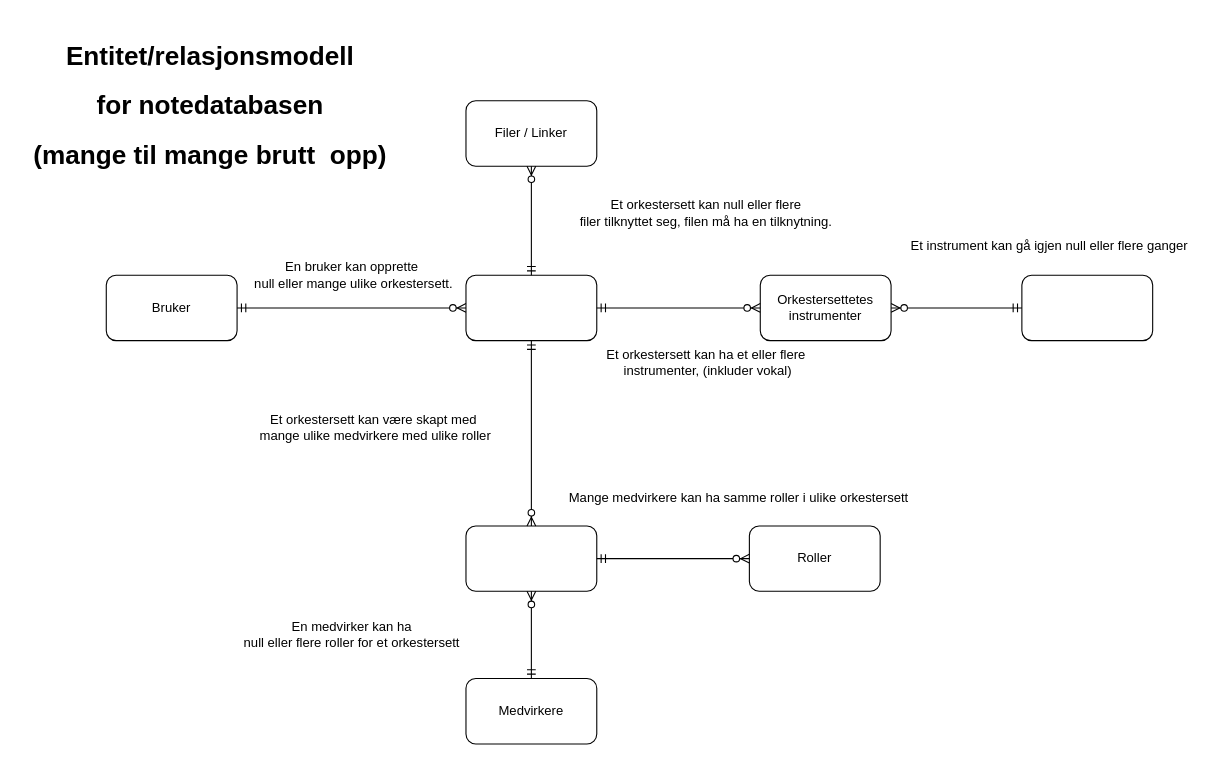
Some shapes in this 1225 by 763 pixel diagram are drawn without their labels. Each missing label, with the centre of its shape:
Instrumenter: the point at 1087,307
Medvirkeres rolle: the point at 531,558
Orkestersett: the point at 531,307
